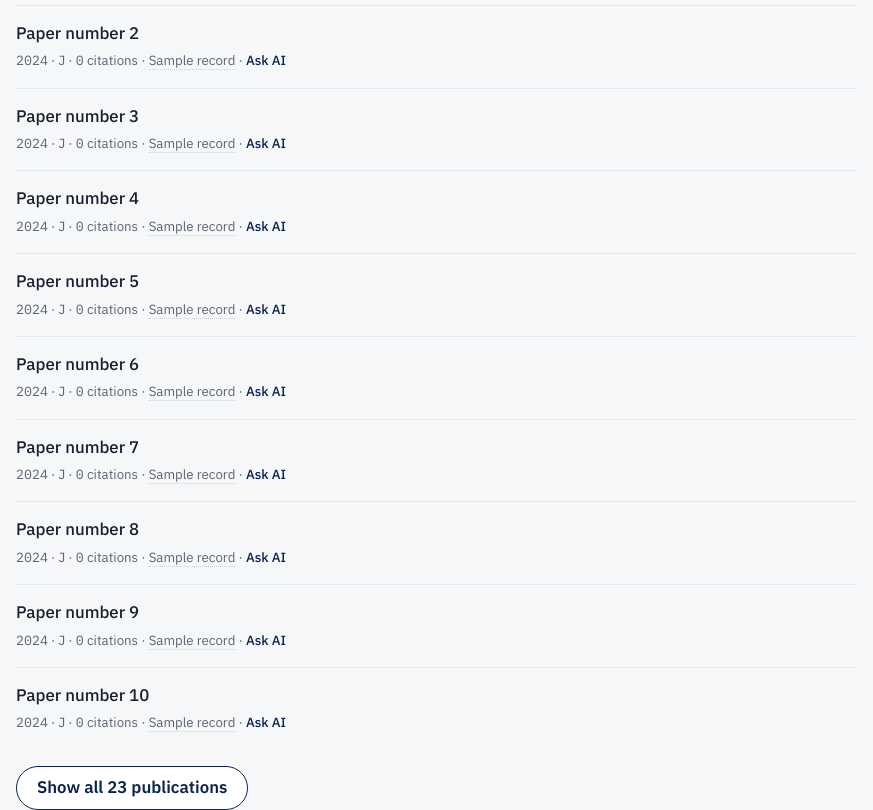
ResearcherProfile long publication lists › shows the first ten papers and the rest on request
This screenshot has width=873, height=810.
(page scrolled)
Check: the text "Paper number 10" is shown, box [16,684,149,706]
Click the button "Show all 23 publications" at {"x": 132, "y": 788}, box [16,766,248,809]
(page scrolled)
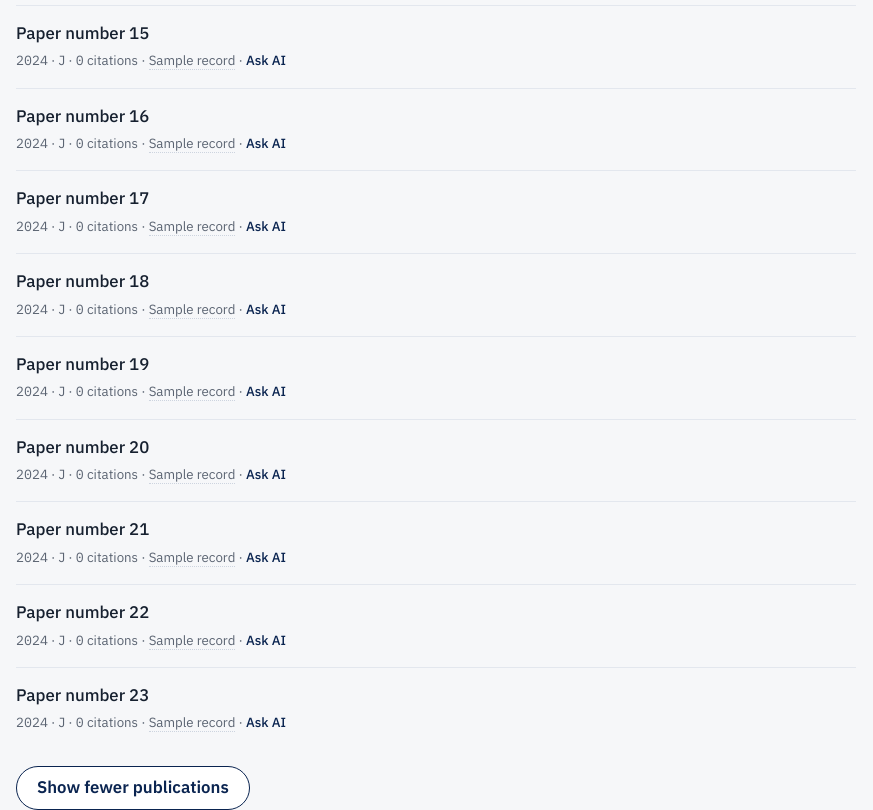
Check: the text "Paper number 23" is shown, box [16,684,149,706]
